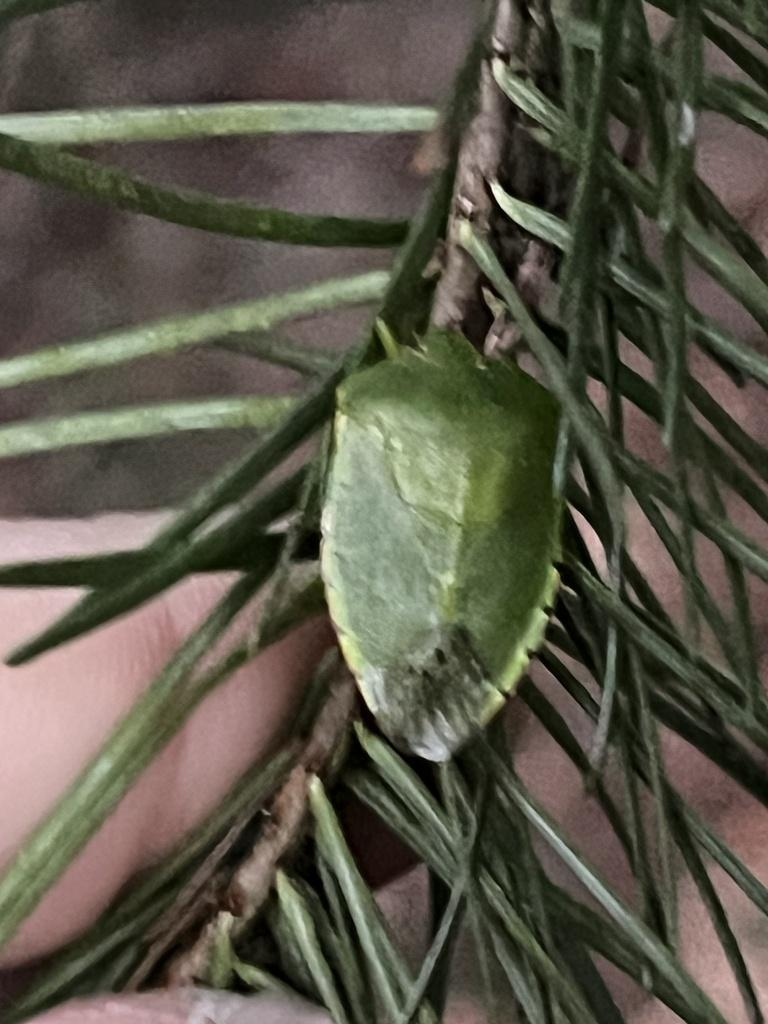stink_bugs: (207, 242, 695, 798)
